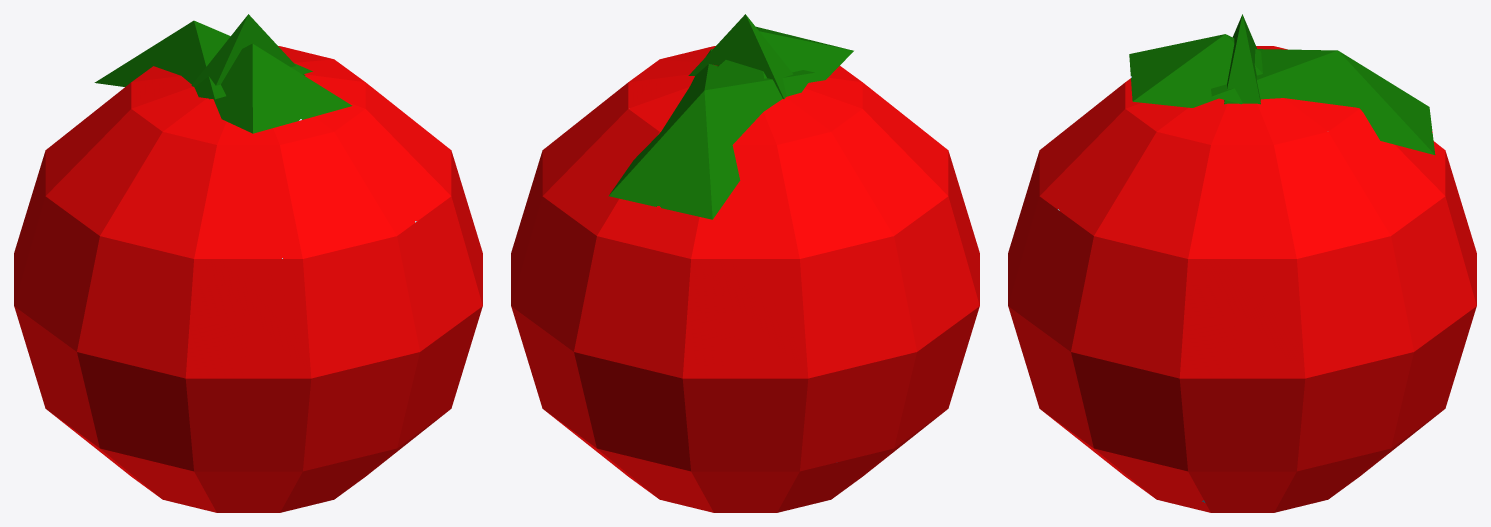
Rendered from BlockBTomato.fbx.
The picture shows the model from 3 angles, left to right: view 1: azimuth 30°, elevation 25°; view 2: azimuth 150°, elevation 25°; view 3: azimuth 270°, elevation 25°; orthographic projection.
Visible parts, largest first — view 1: TomatoBody, centreLeaf, LongLeaf, ShortLeaf; view 2: TomatoBody, LongLeaf, centreLeaf, ShortLeaf; view 3: TomatoBody, LongLeaf, centreLeaf, ShortLeaf.
Boxes of the visible parts, box(x1,y1,x2,y2) form: TomatoBody: box(14, 46, 482, 512); centreLeaf: box(213, 43, 352, 133); LongLeaf: box(94, 20, 312, 99); ShortLeaf: box(191, 14, 305, 99); TomatoBody: box(511, 46, 979, 512); LongLeaf: box(608, 49, 814, 219); centreLeaf: box(717, 26, 853, 82); ShortLeaf: box(688, 14, 793, 99); TomatoBody: box(1008, 46, 1476, 512); LongLeaf: box(1211, 49, 1435, 154); centreLeaf: box(1129, 34, 1262, 107); ShortLeaf: box(1224, 14, 1260, 104).
Size of the model in its own units: 50 by 56.25 by 50.
Materials: 1 (1 with a texture image).
